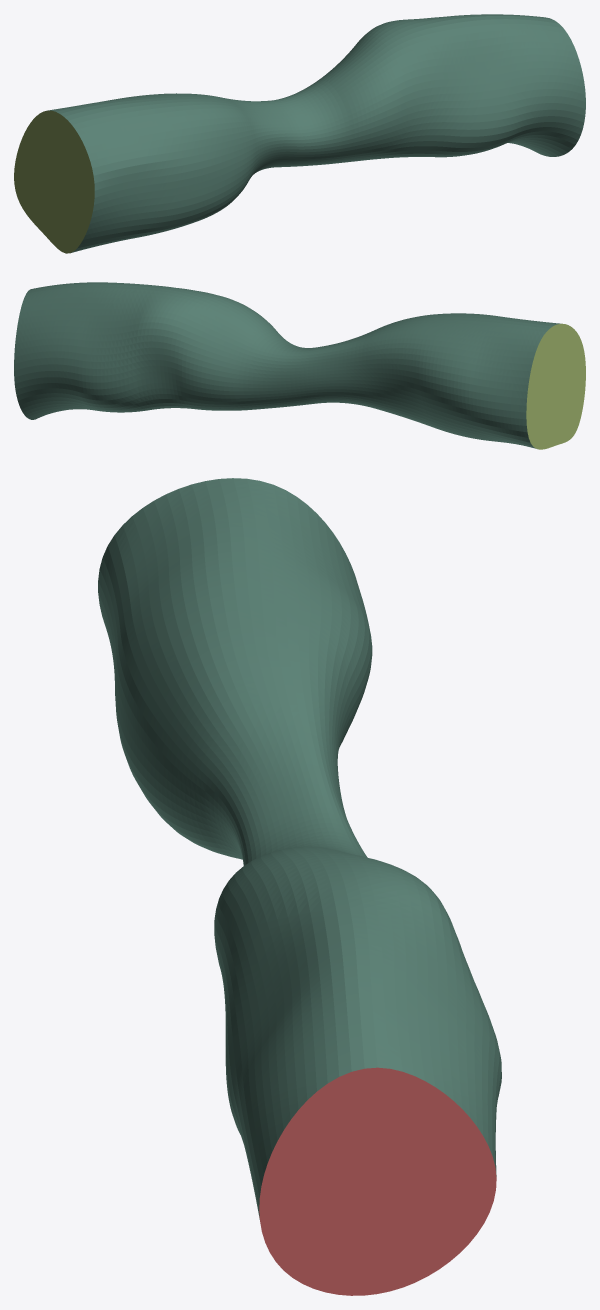
The model's file is Stenosis.vtp.fbx.
The picture shows the model from 3 angles, top to bottom: view 1: azimuth 30°, elevation 25°; view 2: azimuth 150°, elevation 25°; view 3: azimuth 270°, elevation 25°; orthographic projection. The views are drawn at different scales.
Parts seen in each view (by area): view 1: imagetostl_mesh0; view 2: imagetostl_mesh0; view 3: imagetostl_mesh0.
Part boxes in pixels (bbox=[...]): imagetostl_mesh0: bbox=[14, 14, 585, 253]; imagetostl_mesh0: bbox=[14, 282, 585, 449]; imagetostl_mesh0: bbox=[98, 478, 501, 1295].
Size of the model in its own units: 7464 by 2504 by 2589.
